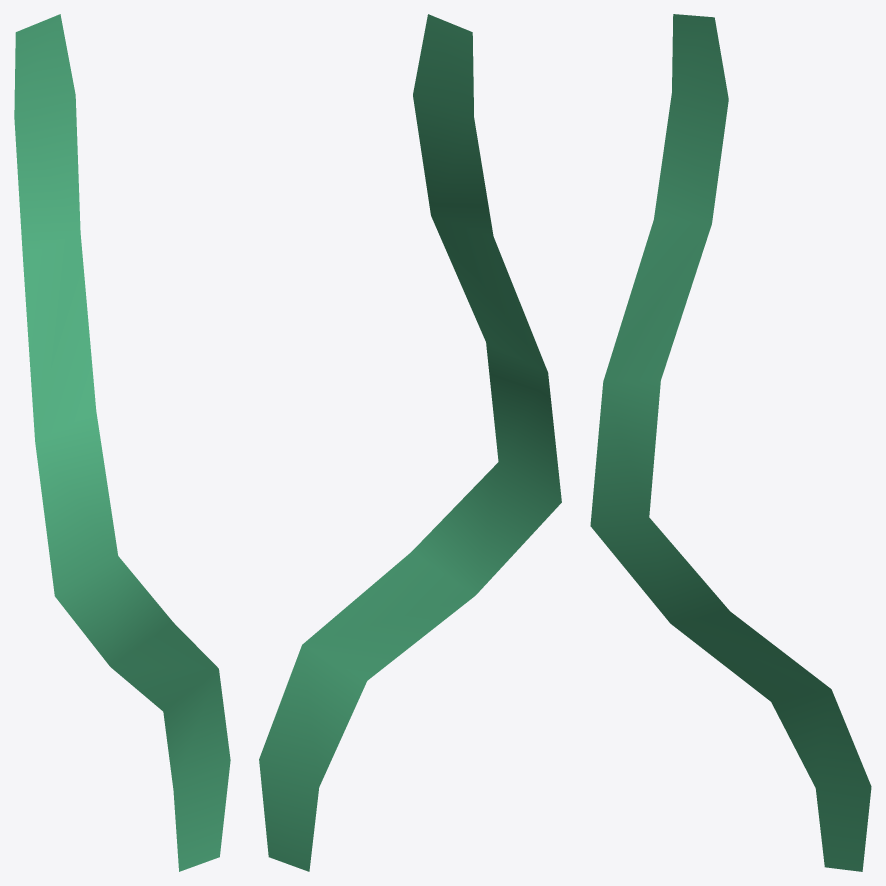
Rendered from 6Algas1.fbx.
3 views of the same model, side by side, from view 1: azimuth 30°, elevation 25°; view 2: azimuth 150°, elevation 25°; view 3: azimuth 330°, elevation 25° (orthographic). The views are drawn at different scales.
Parts seen in each view (by area): view 1: 5Alga5; view 2: 5Alga5; view 3: 5Alga5.
Boxes of the visible parts, bbox=[...] form: 5Alga5: bbox=[14, 14, 230, 871]; 5Alga5: bbox=[259, 14, 561, 871]; 5Alga5: bbox=[590, 14, 871, 871].
Bounding box in the file's own units: 269 × 940 × 123.
